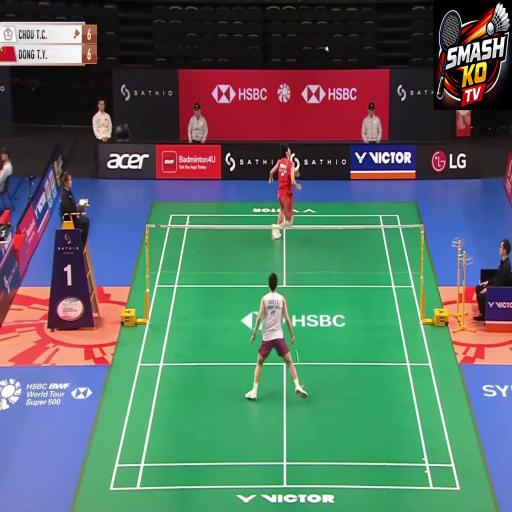player: (244, 259, 302, 421), (267, 116, 304, 268)
